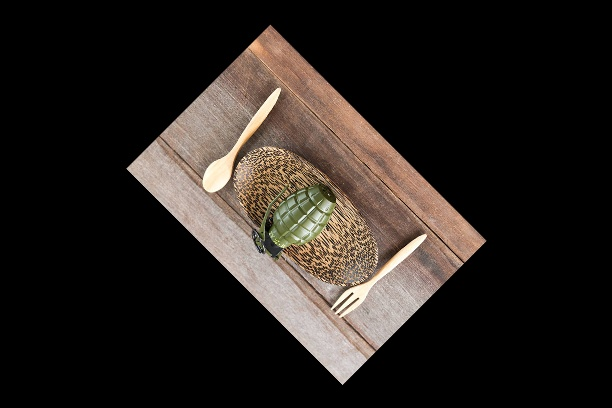e1: (249, 178, 337, 260)
